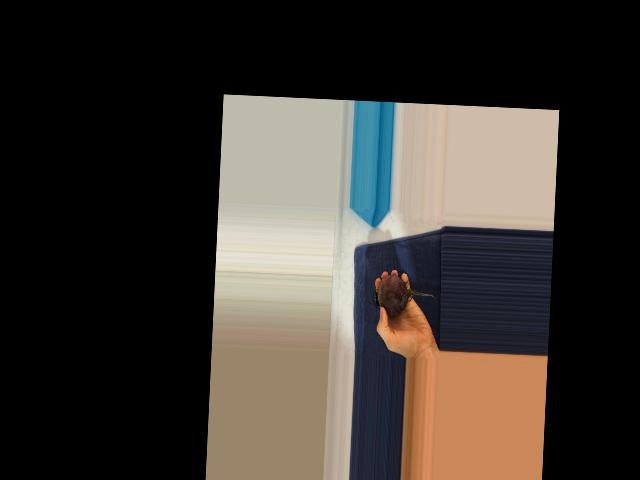beet: (372, 273, 437, 317)
